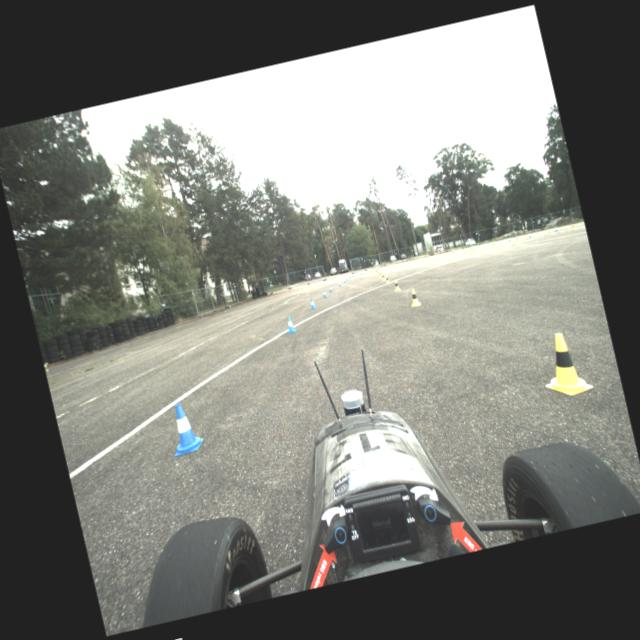blue_cone: (164, 400, 206, 456), (284, 314, 296, 334), (308, 297, 316, 310), (322, 289, 328, 298), (328, 284, 333, 292), (338, 280, 342, 286), (528, 231, 532, 237), (554, 226, 558, 232), (342, 278, 347, 282), (344, 276, 348, 280), (348, 274, 352, 278), (359, 270, 362, 274), (472, 244, 475, 248), (489, 240, 492, 244), (392, 262, 394, 266), (428, 254, 430, 258), (452, 248, 454, 252), (508, 237, 510, 241), (408, 259, 410, 262), (352, 274, 354, 276)
yellow_cone: (533, 326, 595, 401), (407, 287, 420, 307), (392, 280, 401, 292), (384, 274, 390, 284), (380, 272, 386, 280), (570, 222, 576, 228), (492, 240, 496, 246), (515, 235, 519, 241), (378, 272, 382, 277), (469, 245, 472, 250), (376, 271, 379, 275), (386, 264, 389, 268), (375, 269, 377, 273), (403, 260, 405, 264), (426, 256, 428, 260), (377, 267, 379, 270), (450, 250, 452, 253)
